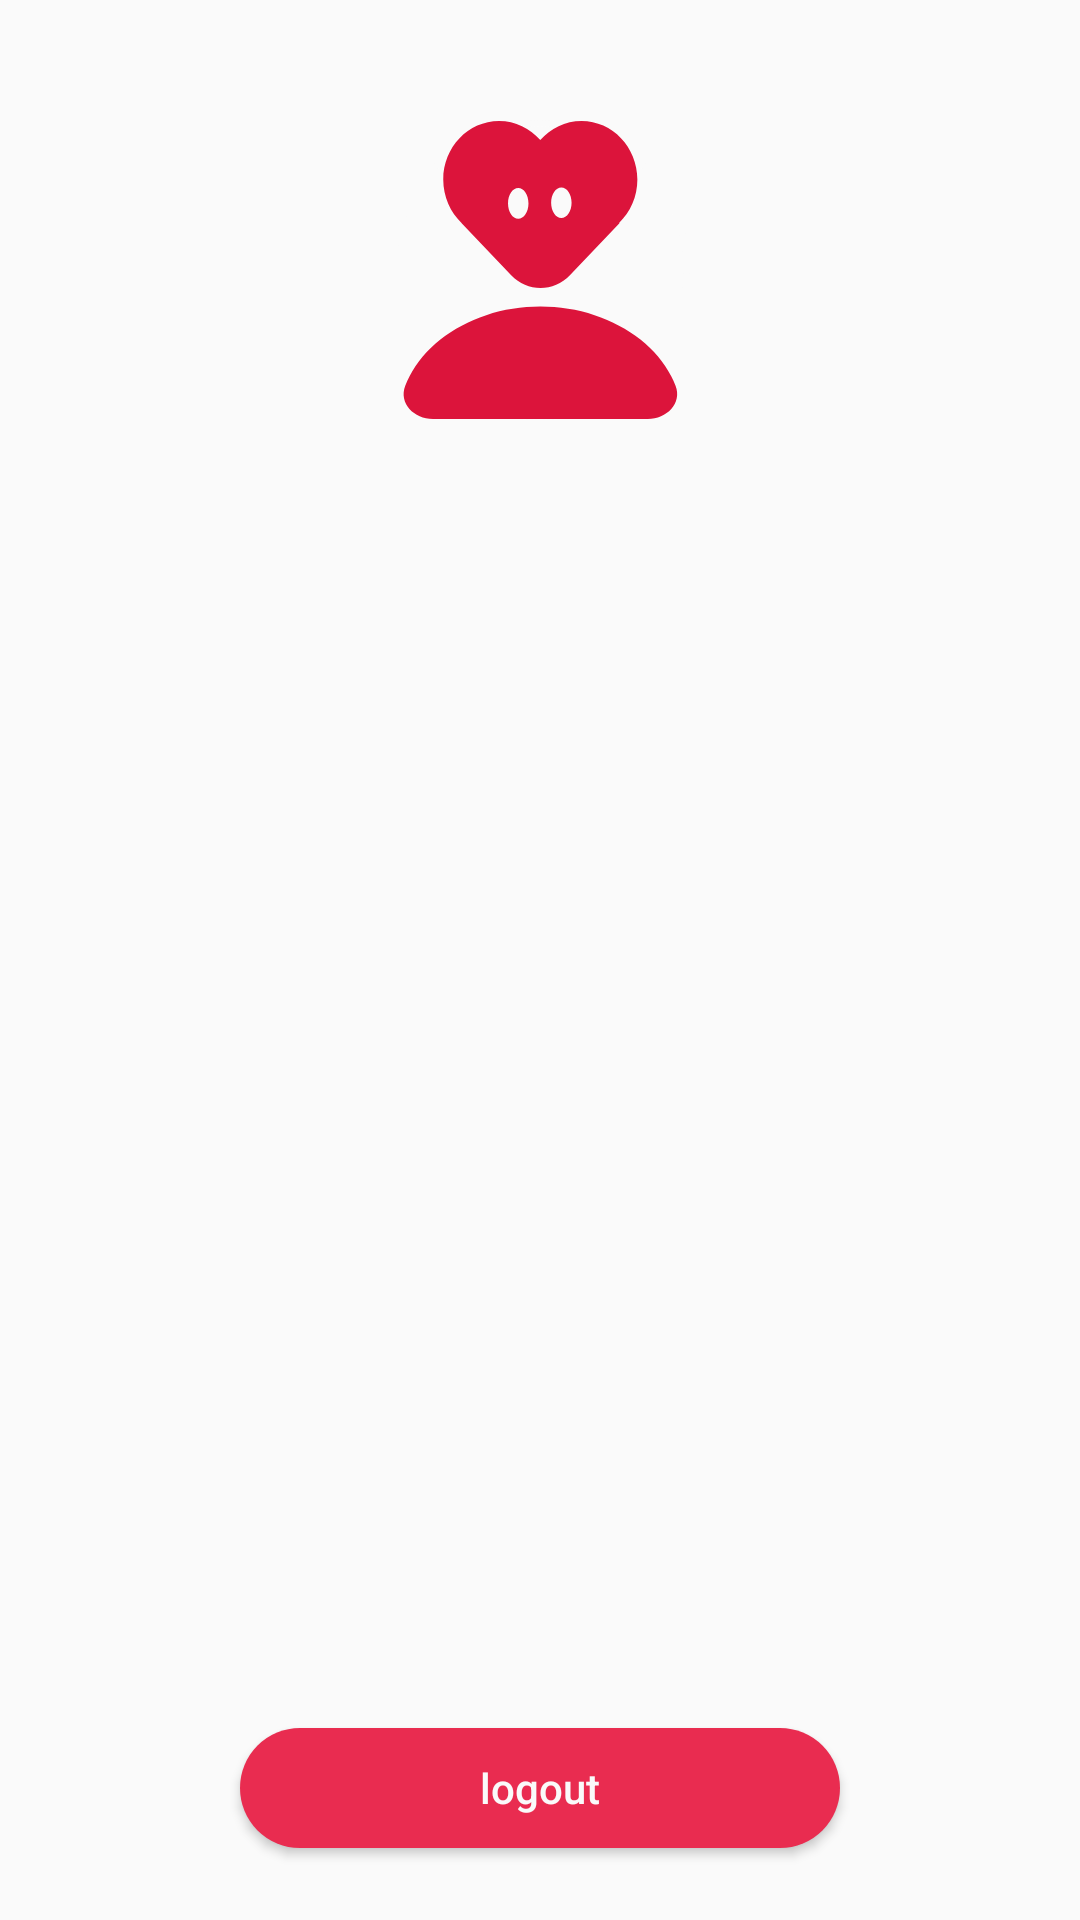

Icon click points for this 1080×1920 phone screenshot, format (x=x, y=y):
doauser: (x=540, y=270)
